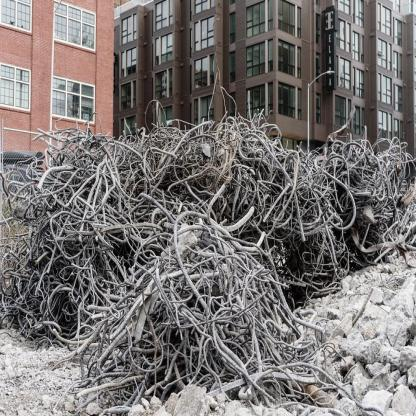rebar: (2, 113, 415, 413)
